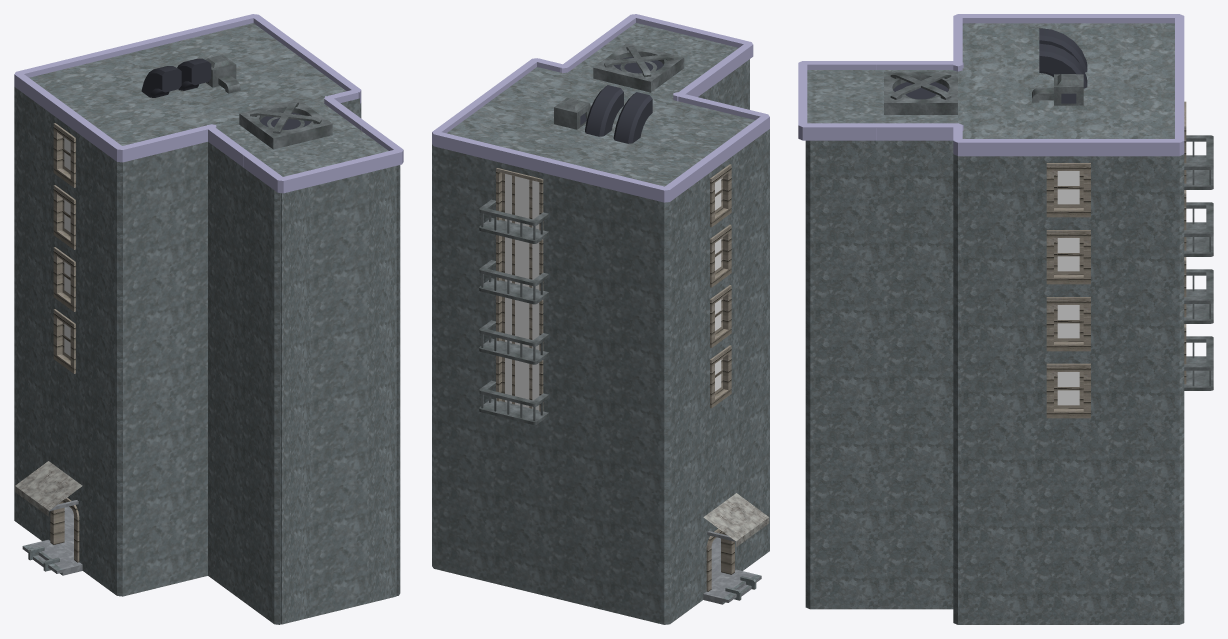
Rendered from Foyer2.fbx.
3 views of the same model, side by side, from view 1: azimuth 30°, elevation 25°; view 2: azimuth 150°, elevation 25°; view 3: azimuth 270°, elevation 25° (orthographic). The views are drawn at different scales.
Visible parts, largest first — view 1: mergedBlocks; view 2: mergedBlocks; view 3: mergedBlocks.
Part boxes in pixels (x1=…): mergedBlocks: x1=14, y1=14, x2=403, y2=624; mergedBlocks: x1=432, y1=14, x2=769, y2=624; mergedBlocks: x1=798, y1=14, x2=1213, y2=624.
Bounding box in the file's own units: 47.22 × 76.65 × 56.25.
13 materials, 8 textured.
